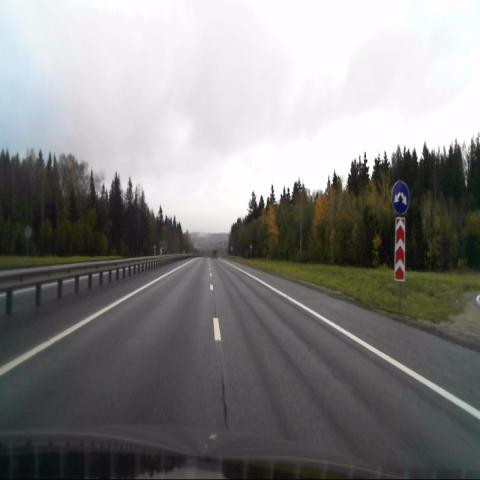4_2_3: (391, 182, 409, 214)
